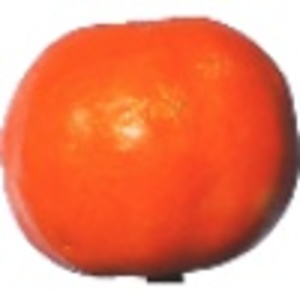tangerina: (2, 14, 300, 283)
